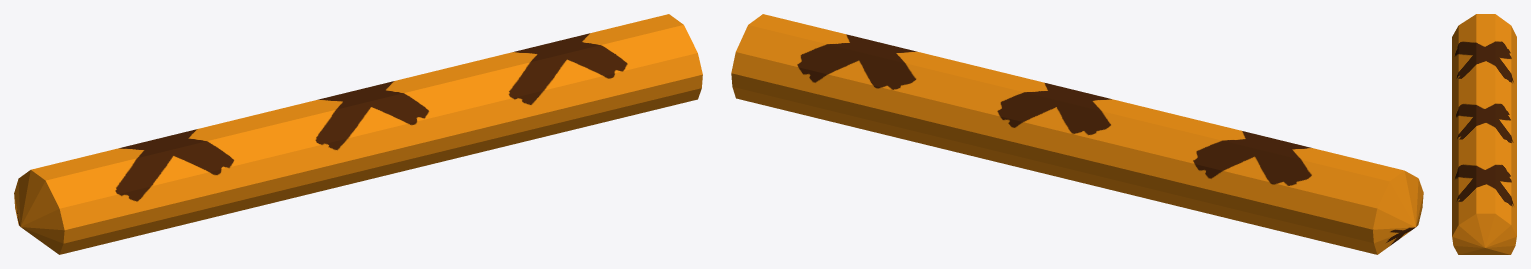
Rendered from yoot-round-9.glb.
3 views of the same model, side by side, from view 1: azimuth 30°, elevation 25°; view 2: azimuth 150°, elevation 25°; view 3: azimuth 270°, elevation 25° (orthographic). The views are drawn at different scales.
Parts seen in each view (by area): view 1: Cylinder.009; view 2: Cylinder.009; view 3: Cylinder.009.
Boxes of the visible parts, bbox=[...] form: Cylinder.009: bbox=[14, 14, 702, 254]; Cylinder.009: bbox=[731, 14, 1423, 254]; Cylinder.009: bbox=[1452, 14, 1516, 254].
Size of the model in its own units: 10.36 by 0.9511 by 1.35.
Materials: 1 (1 with a texture image).
